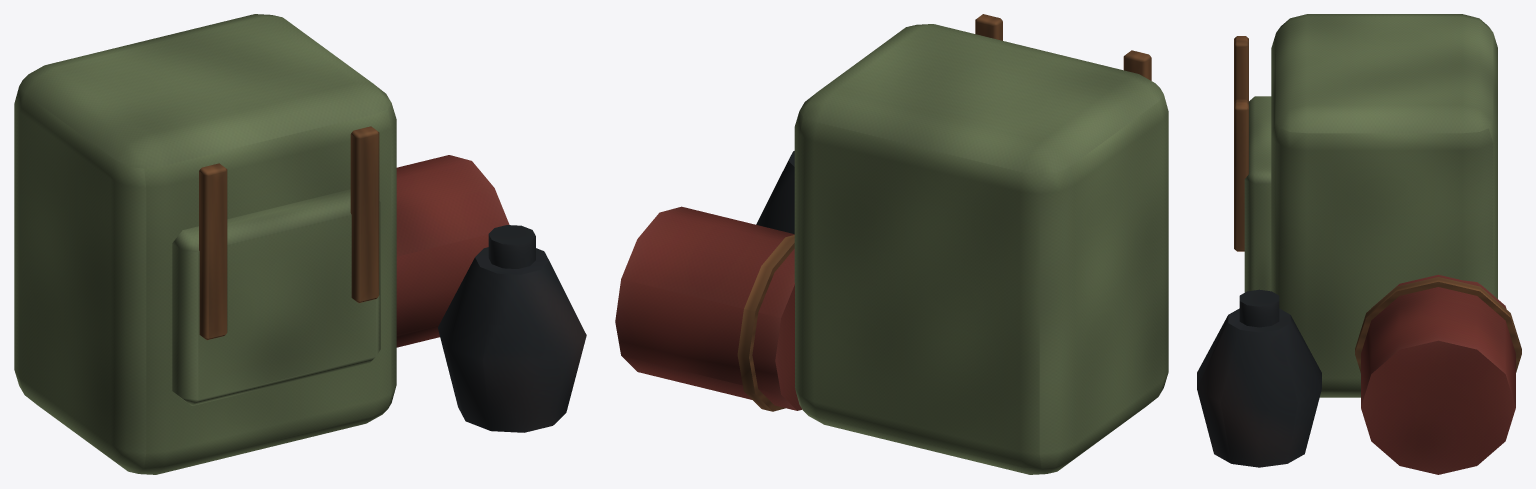
File: Furn_Camp_PackPile.fbx
3 renders of one model, left to right at view 1: azimuth 30°, elevation 25°; view 2: azimuth 150°, elevation 25°; view 3: azimuth 270°, elevation 25°, orthographic. The views are drawn at different scales.
Parts seen in each view (by area): view 1: Furn_Camp_PackPile; view 2: Furn_Camp_PackPile; view 3: Furn_Camp_PackPile.
Part boxes in pixels (box(x1,y1,x2,y2)): Furn_Camp_PackPile: box(14, 14, 586, 474); Furn_Camp_PackPile: box(615, 14, 1168, 474); Furn_Camp_PackPile: box(1197, 14, 1521, 474).
Size of the model in its own units: 0.8 by 0.6 by 0.6.
4 materials, 4 textured.
